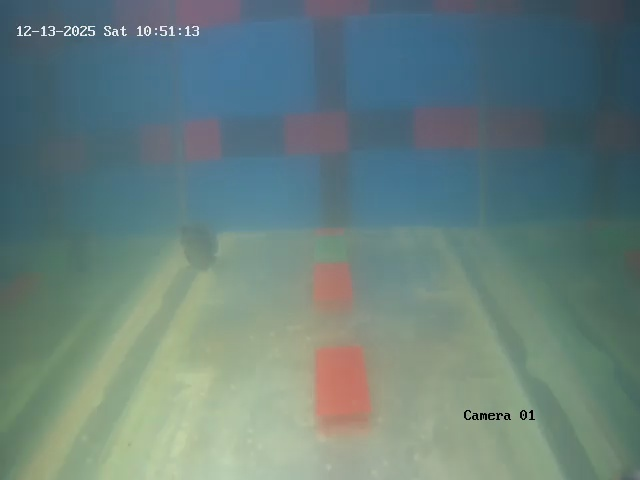fish: (172, 218, 223, 270)
